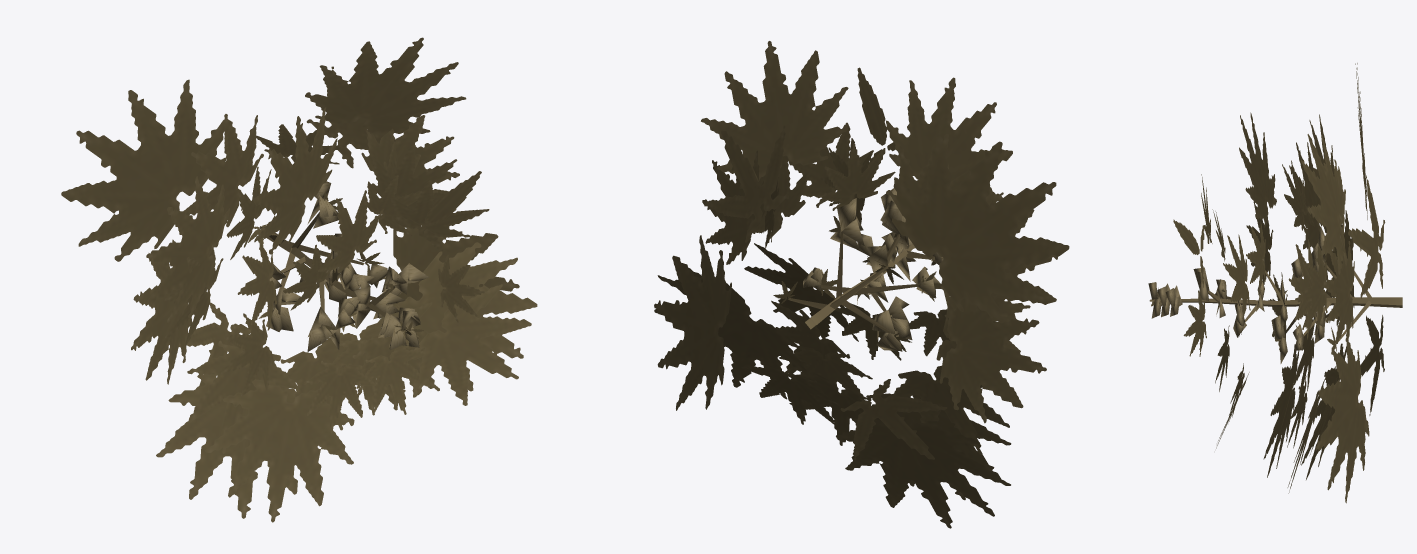
File: p_male_haze_flowering_c4_cards.obj
3 views of the same model, side by side, from view 1: azimuth 30°, elevation 25°; view 2: azimuth 150°, elevation 25°; view 3: azimuth 270°, elevation 25° (orthographic). The views are drawn at different scales.
Size of the model in its own units: 1.35 by 1.21 by 0.636.
1 material, 1 textured.
